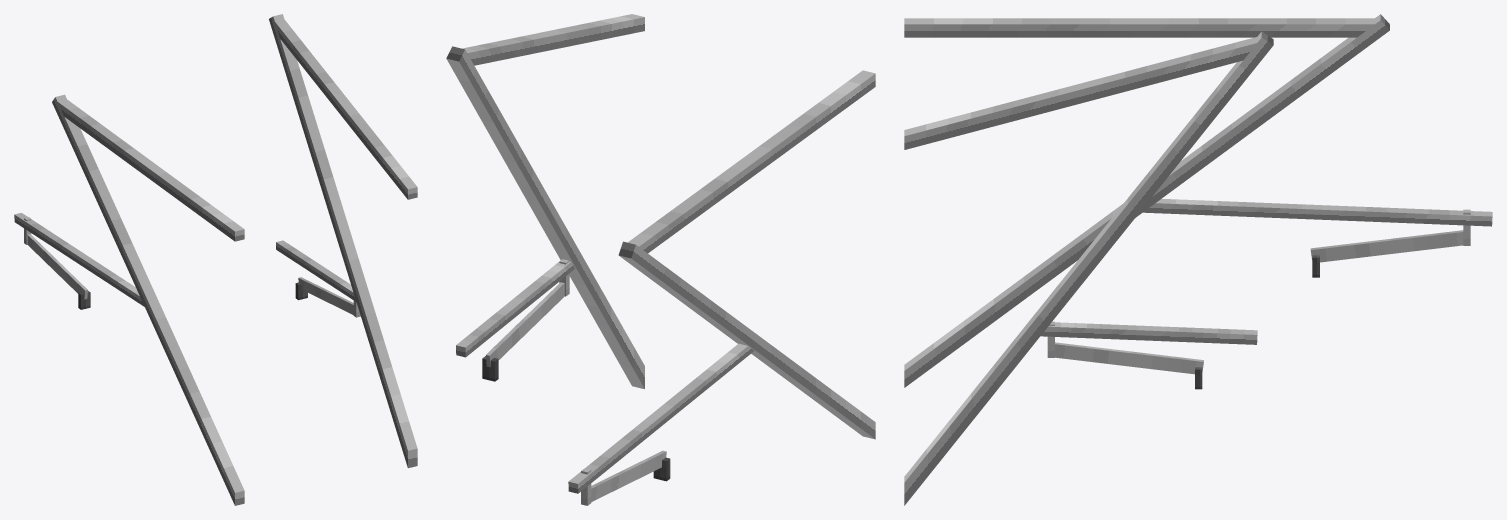
File: cantilever_center_16px.obj
3 views of the same model, side by side, from view 1: azimuth 30°, elevation 25°; view 2: azimuth 150°, elevation 25°; view 3: azimuth 270°, elevation 25° (orthographic). The views are drawn at different scales.
Visible parts, largest first — view 1: 54bfd248-4b44-48cc-9485-8973ed19c384, 22200f5e-c58c-4308-a765-7f4b661d94dc, 2aec10f0-9815-4a0e-93d4-84fab1bd0caa, bc1ea464-e661-44da-9724-b9cfb5e878a3, f1bfaadd-b449-4f6a-b3c2-c8517df48c9e, b5d52a51-e260-4b62-8e5b-8242356db98a, 5146520d-6999-4316-a07b-1b9fdc7509ef, 0fd6e91b-bce5-400d-8de9-a25c58fbe617; view 2: 54bfd248-4b44-48cc-9485-8973ed19c384, 2aec10f0-9815-4a0e-93d4-84fab1bd0caa, 22200f5e-c58c-4308-a765-7f4b661d94dc, f1bfaadd-b449-4f6a-b3c2-c8517df48c9e, bc1ea464-e661-44da-9724-b9cfb5e878a3, b5d52a51-e260-4b62-8e5b-8242356db98a, 0fd6e91b-bce5-400d-8de9-a25c58fbe617, 5146520d-6999-4316-a07b-1b9fdc7509ef; view 3: 54bfd248-4b44-48cc-9485-8973ed19c384, 22200f5e-c58c-4308-a765-7f4b661d94dc, 2aec10f0-9815-4a0e-93d4-84fab1bd0caa, bc1ea464-e661-44da-9724-b9cfb5e878a3, f1bfaadd-b449-4f6a-b3c2-c8517df48c9e, b5d52a51-e260-4b62-8e5b-8242356db98a, 5146520d-6999-4316-a07b-1b9fdc7509ef, 0fd6e91b-bce5-400d-8de9-a25c58fbe617.
Boxes of the visible parts, x1=… form: 54bfd248-4b44-48cc-9485-8973ed19c384: x1=269, y1=14, x2=417, y2=468; 22200f5e-c58c-4308-a765-7f4b661d94dc: x1=52, y1=94, x2=244, y2=505; 2aec10f0-9815-4a0e-93d4-84fab1bd0caa: x1=58, y1=99, x2=244, y2=241; bc1ea464-e661-44da-9724-b9cfb5e878a3: x1=275, y1=19, x2=417, y2=199; f1bfaadd-b449-4f6a-b3c2-c8517df48c9e: x1=14, y1=213, x2=144, y2=306; b5d52a51-e260-4b62-8e5b-8242356db98a: x1=276, y1=240, x2=356, y2=301; 5146520d-6999-4316-a07b-1b9fdc7509ef: x1=27, y1=234, x2=87, y2=299; 0fd6e91b-bce5-400d-8de9-a25c58fbe617: x1=298, y1=277, x2=353, y2=314; 54bfd248-4b44-48cc-9485-8973ed19c384: x1=446, y1=46, x2=644, y2=389; 2aec10f0-9815-4a0e-93d4-84fab1bd0caa: x1=628, y1=70, x2=875, y2=253; 22200f5e-c58c-4308-a765-7f4b661d94dc: x1=618, y1=241, x2=875, y2=439; f1bfaadd-b449-4f6a-b3c2-c8517df48c9e: x1=568, y1=343, x2=754, y2=493; bc1ea464-e661-44da-9724-b9cfb5e878a3: x1=462, y1=14, x2=644, y2=65; b5d52a51-e260-4b62-8e5b-8242356db98a: x1=456, y1=261, x2=574, y2=357; 0fd6e91b-bce5-400d-8de9-a25c58fbe617: x1=486, y1=282, x2=564, y2=367; 5146520d-6999-4316-a07b-1b9fdc7509ef: x1=591, y1=450, x2=666, y2=501; 54bfd248-4b44-48cc-9485-8973ed19c384: x1=904, y1=31, x2=1273, y2=505; 22200f5e-c58c-4308-a765-7f4b661d94dc: x1=904, y1=14, x2=1389, y2=387; 2aec10f0-9815-4a0e-93d4-84fab1bd0caa: x1=904, y1=18, x2=1374, y2=37; bc1ea464-e661-44da-9724-b9cfb5e878a3: x1=904, y1=37, x2=1257, y2=149; f1bfaadd-b449-4f6a-b3c2-c8517df48c9e: x1=1143, y1=198, x2=1492, y2=226; b5d52a51-e260-4b62-8e5b-8242356db98a: x1=1041, y1=322, x2=1257, y2=344; 5146520d-6999-4316-a07b-1b9fdc7509ef: x1=1310, y1=230, x2=1463, y2=262; 0fd6e91b-bce5-400d-8de9-a25c58fbe617: x1=1055, y1=342, x2=1203, y2=374.
Size of the model in its own units: 1.19 by 2.2 by 2.5.
